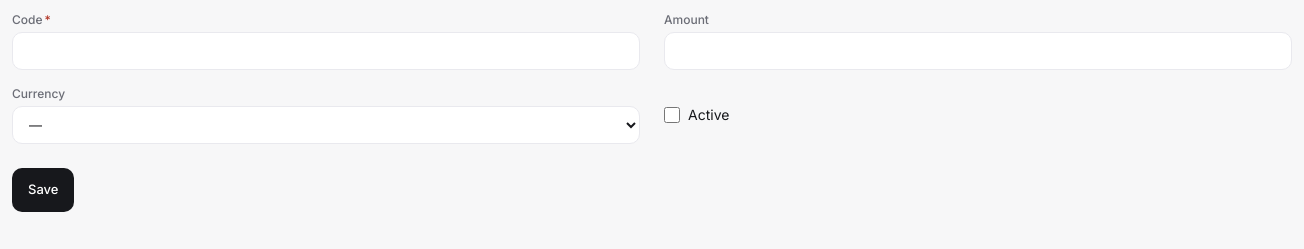
it: FormBuilder › blocks submit on an empty required field and names it under the control
The image size is (1304, 249).
Click the button "Save": [43, 190] box [12,168,74,212]
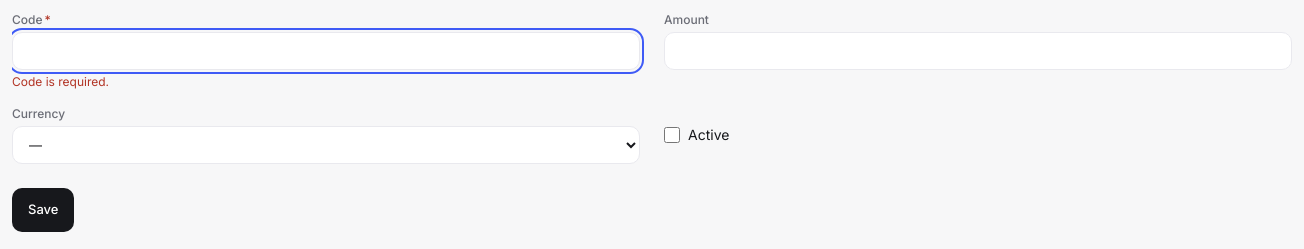
Expected: the message reads "Code is required.", [12,74,109,89]
